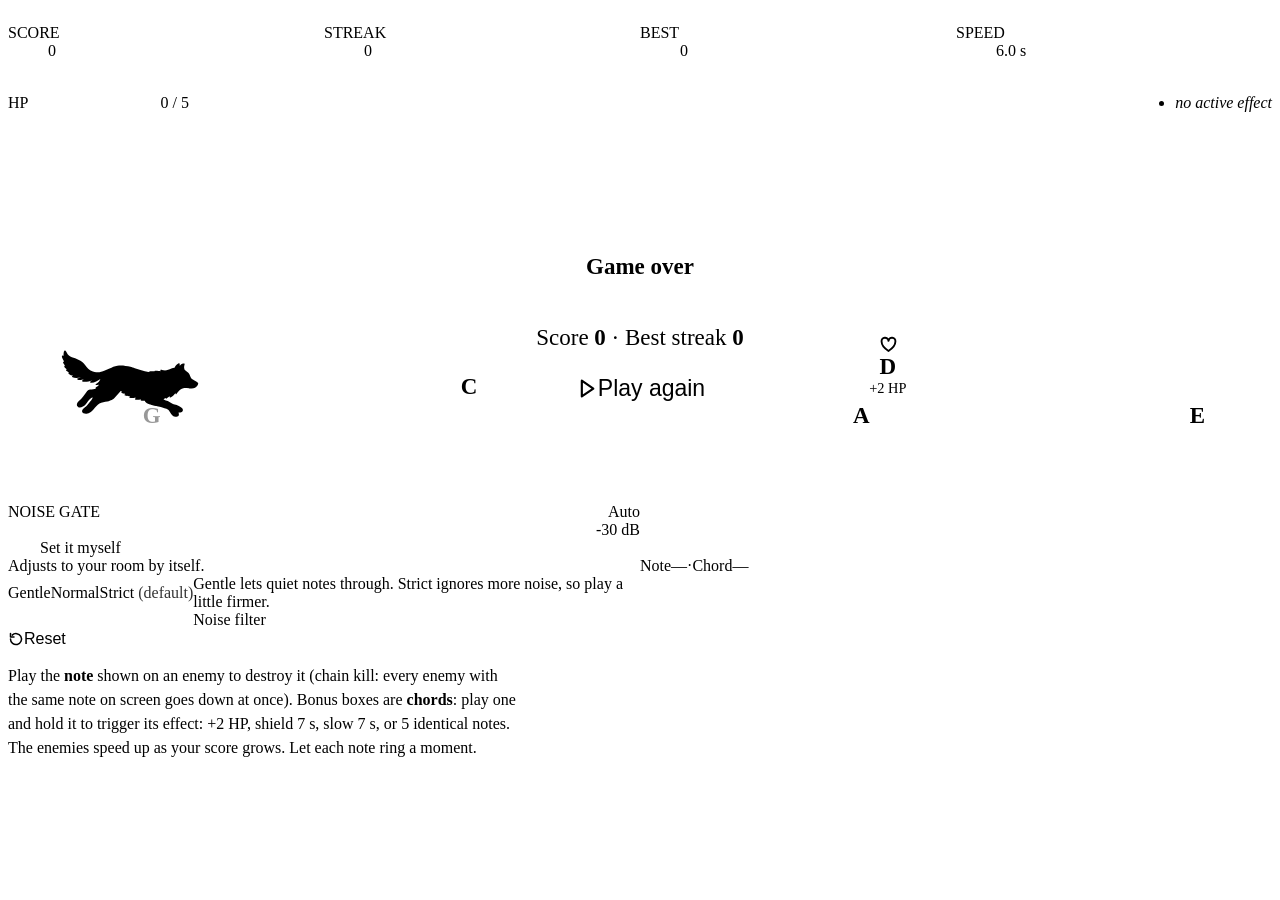
Test case: WolfJumper › ends the game when enemies get through, then restarts
Expected: the dialog with class "al-overlay" is shown, [536,254,744,402]
Click the button "Play again" at (640, 389), box [575,375,705,402]
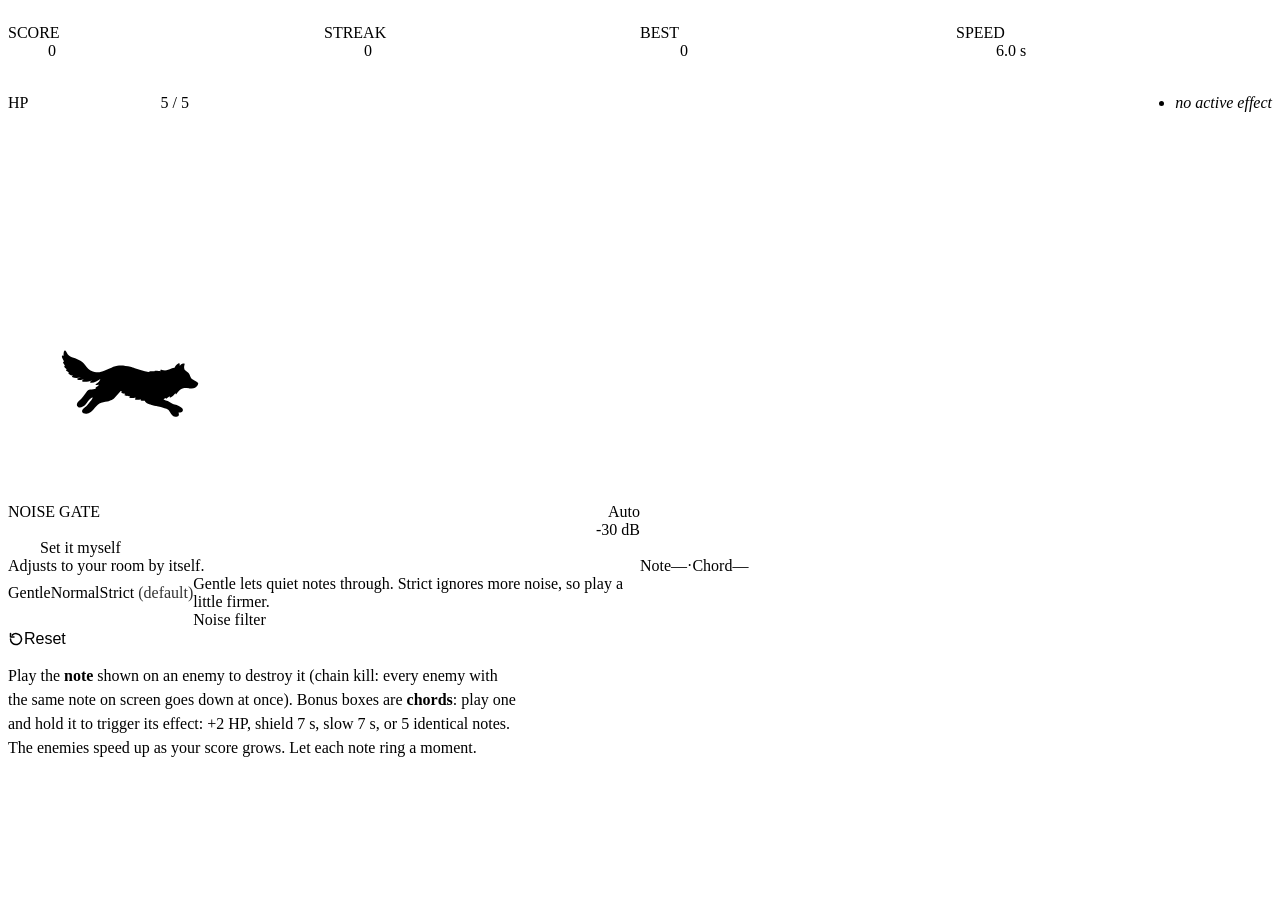
Result: the dialog with class "al-overlay" is gone
